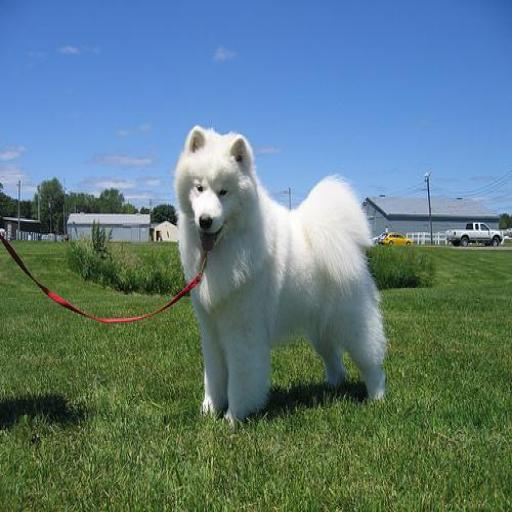dog_face: (173, 121, 255, 254)
